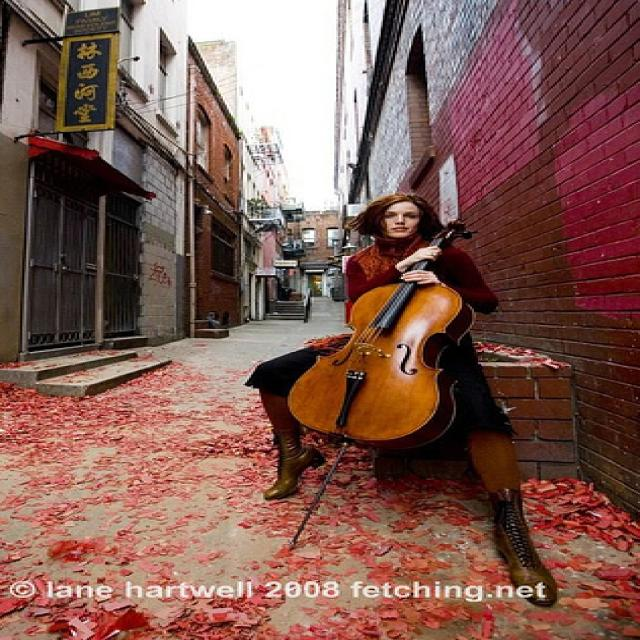cello: (285, 221, 500, 450)
